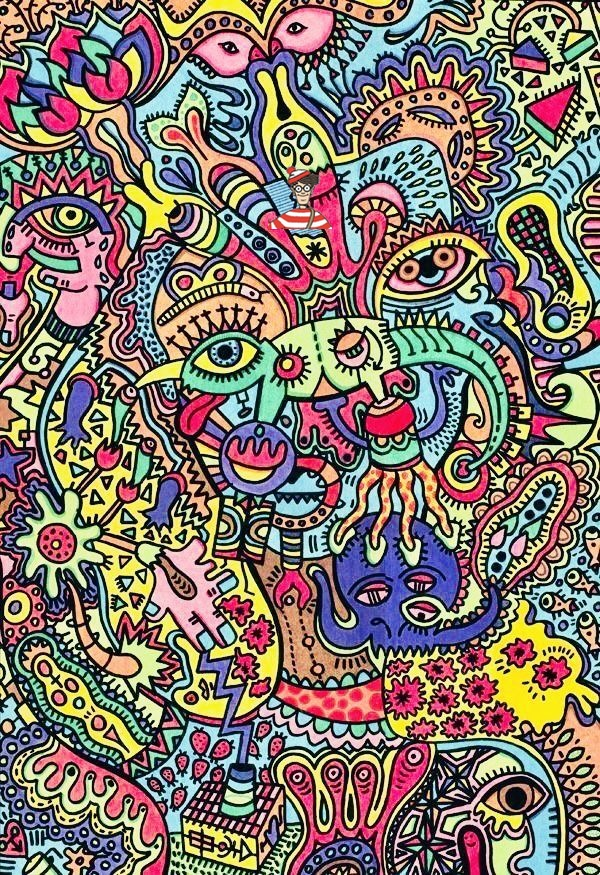waldo: (268, 165, 332, 229)
